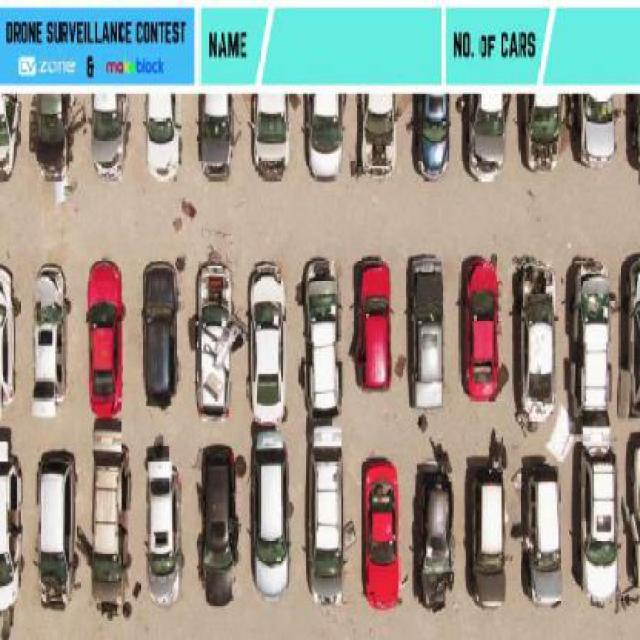car: (571, 436, 618, 608), (89, 426, 132, 610), (456, 254, 508, 403), (566, 257, 612, 422), (514, 259, 560, 424), (307, 420, 348, 602), (34, 445, 80, 607), (81, 258, 127, 416), (197, 438, 240, 606), (250, 427, 292, 597), (346, 252, 396, 392), (356, 454, 402, 606), (304, 258, 346, 421), (192, 261, 234, 423), (248, 263, 289, 427), (140, 449, 182, 609), (413, 458, 456, 614), (138, 260, 181, 412), (408, 252, 447, 416), (470, 466, 511, 612), (31, 265, 72, 410), (525, 464, 565, 610), (462, 93, 513, 186), (0, 430, 22, 612), (31, 95, 75, 184), (250, 91, 293, 182), (90, 94, 134, 181), (306, 91, 347, 184), (356, 94, 398, 182), (524, 93, 568, 176), (195, 94, 236, 182), (574, 90, 618, 169), (143, 92, 180, 182), (413, 95, 451, 182), (621, 250, 640, 418), (0, 261, 17, 405), (626, 435, 640, 603), (0, 95, 22, 183), (626, 92, 640, 174)
